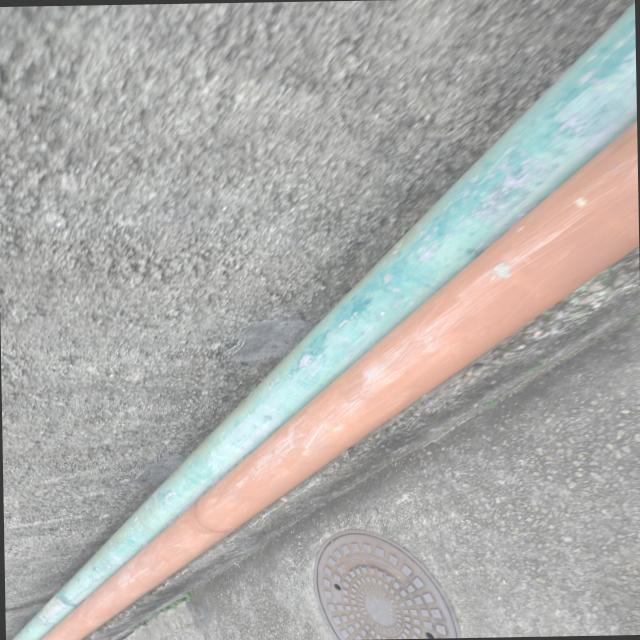gas: (11, 0, 637, 640), (39, 119, 639, 640)
